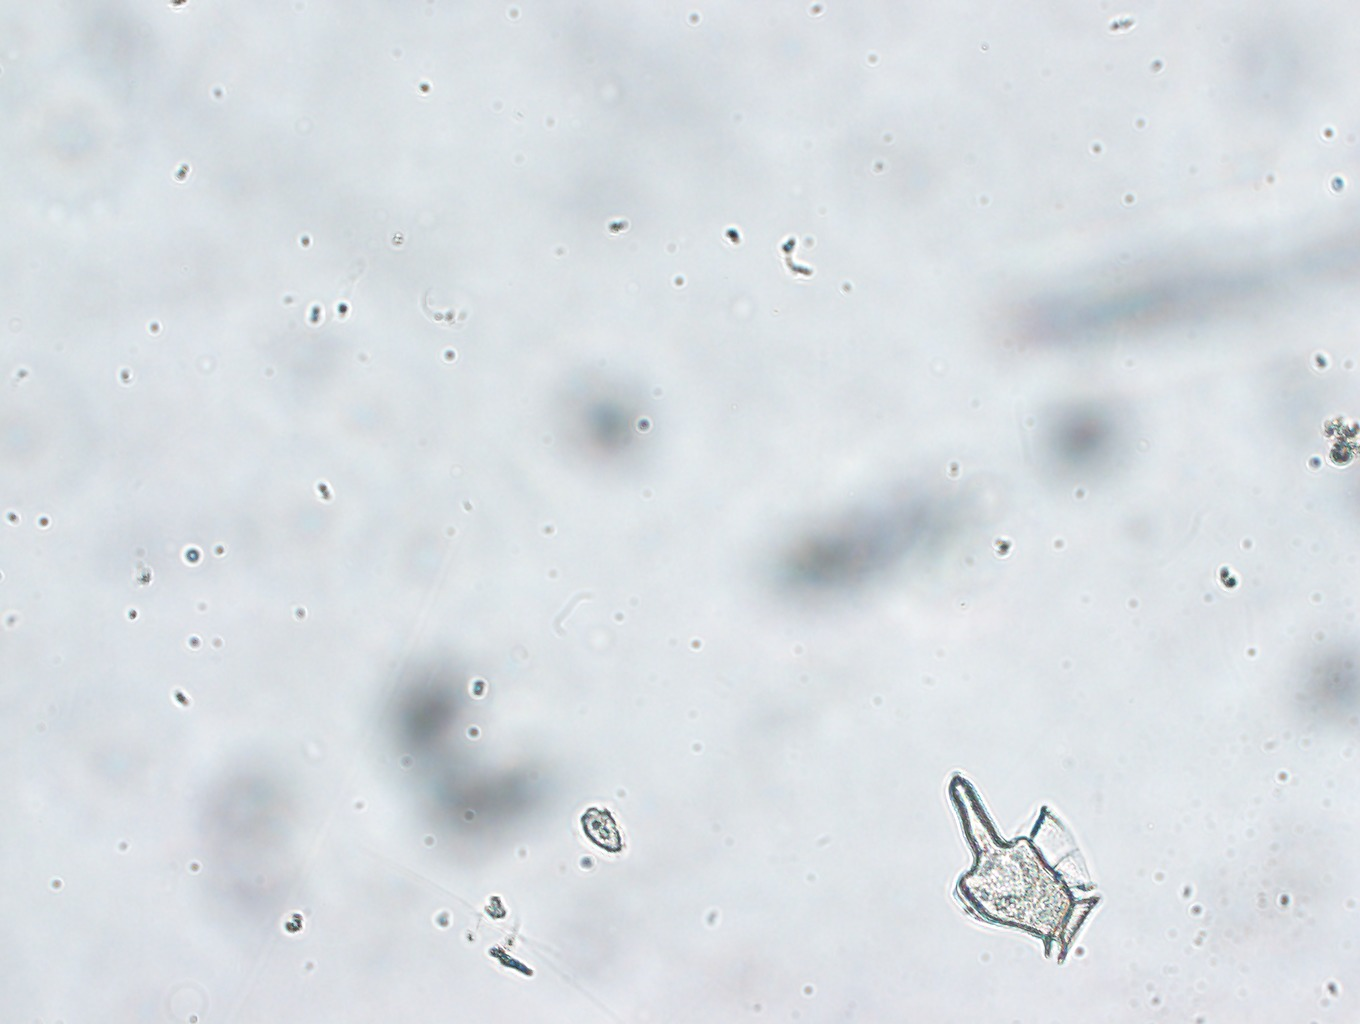dinophysis caudata: (930, 759, 1108, 963)
